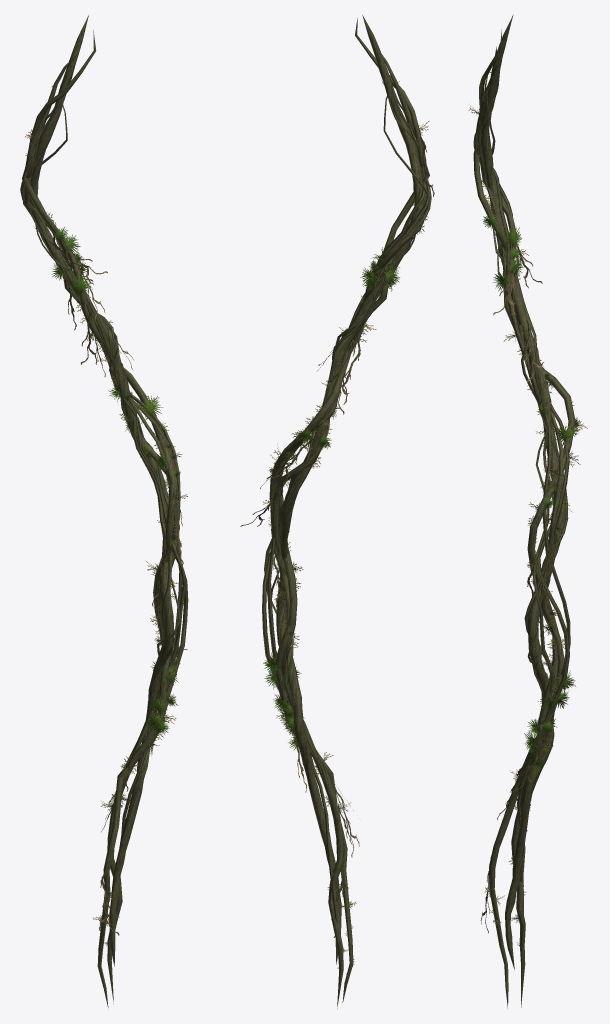
File: Plant - Alien Liana2-DtYcbbSJ.glb
3 renders of one model, left to right at view 1: azimuth 30°, elevation 25°; view 2: azimuth 210°, elevation 25°; view 3: azimuth 330°, elevation 25°, orthographic.
Parts seen in each view (by area): view 1: Liana2_L0(Clone); view 2: Liana2_L0(Clone); view 3: Liana2_L0(Clone).
Part boxes in pixels (x1,y1,x2,y2): Liana2_L0(Clone): (20, 15, 188, 1007); Liana2_L0(Clone): (240, 15, 434, 1008); Liana2_L0(Clone): (468, 14, 587, 1008).
Bounding box in the file's own units: 2.21 × 14.33 × 1.64.
2 materials, 2 textured.
